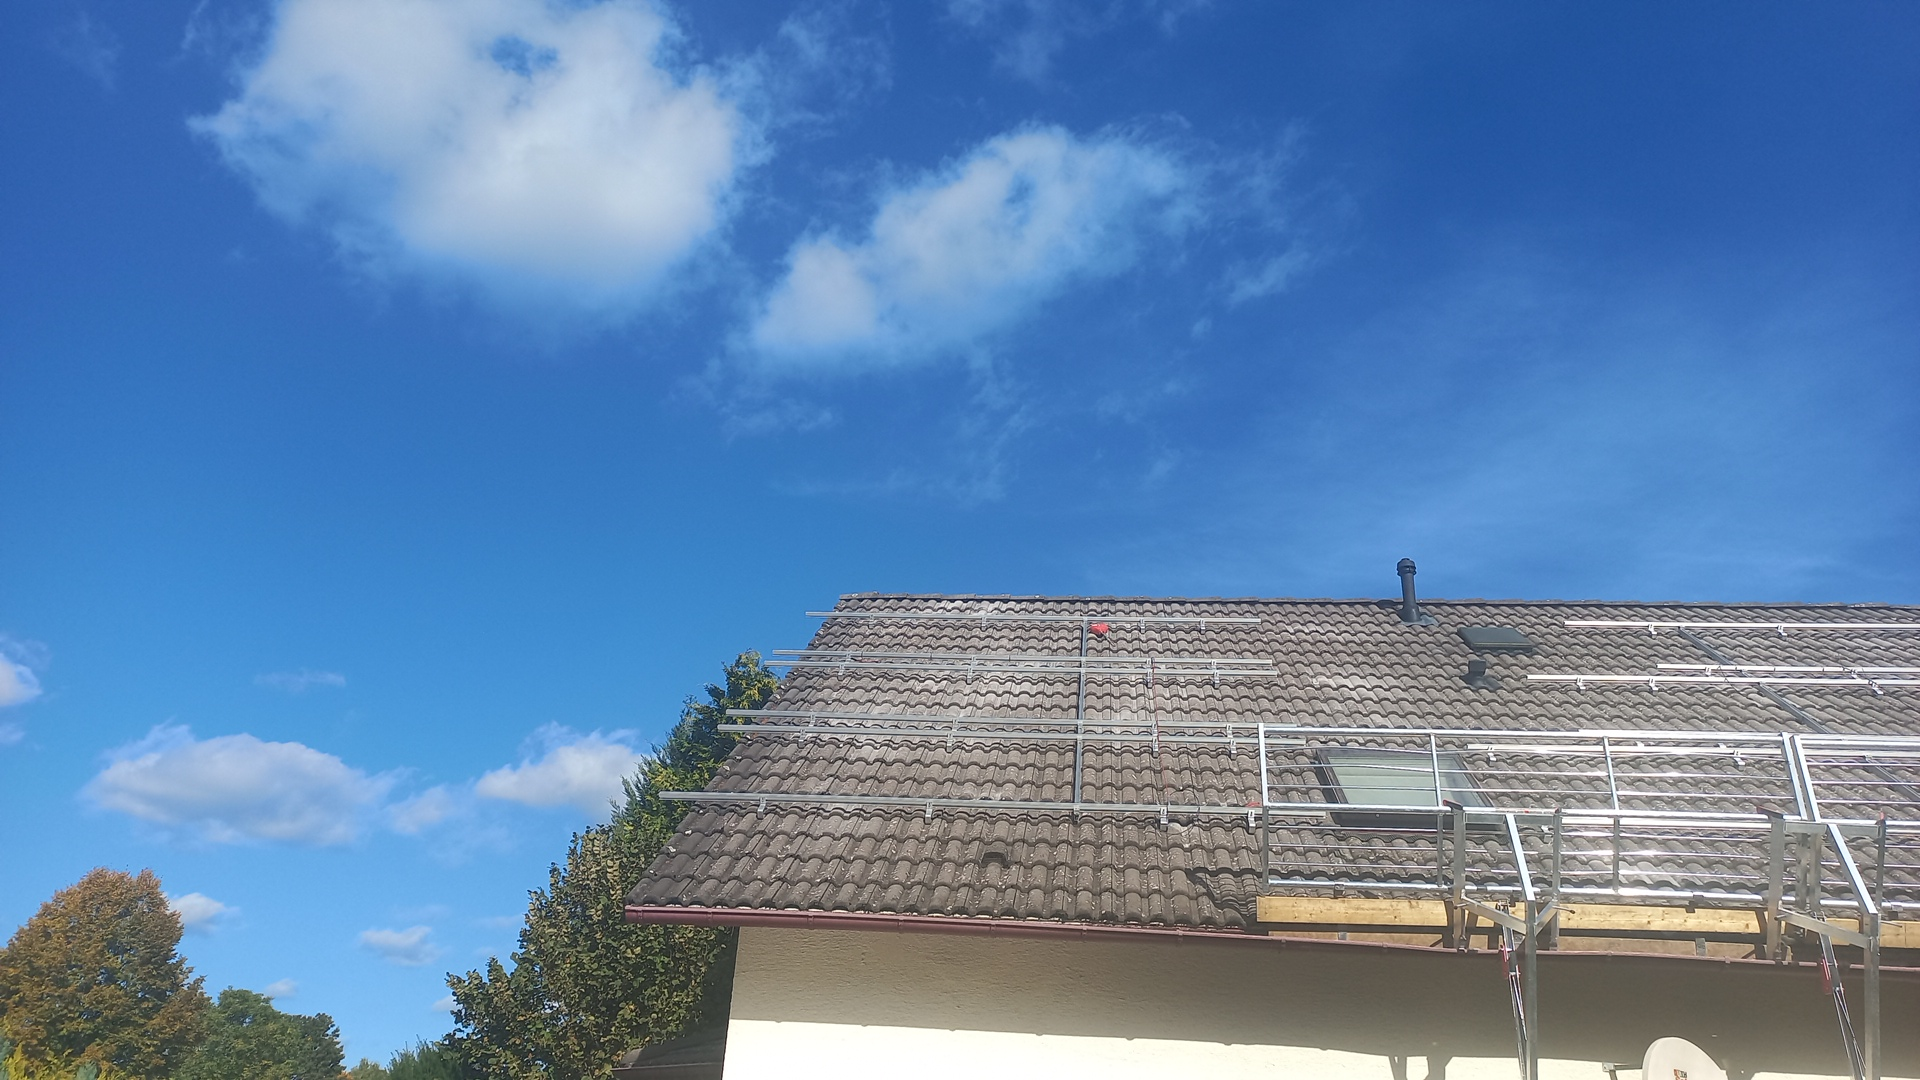hook: (1734, 750, 1745, 771), (1873, 682, 1884, 700), (757, 796, 766, 819), (1576, 676, 1586, 695), (1542, 824, 1552, 843), (1247, 810, 1255, 833), (1160, 807, 1168, 831), (924, 800, 932, 824), (1650, 678, 1659, 696), (1487, 746, 1495, 767), (1778, 625, 1787, 641), (1648, 624, 1658, 640), (1230, 740, 1237, 761), (798, 729, 804, 748), (945, 733, 952, 752), (837, 665, 844, 680), (1147, 670, 1153, 688), (1153, 738, 1158, 757), (1851, 669, 1861, 679), (967, 667, 972, 684), (868, 615, 874, 628), (808, 713, 815, 727), (1139, 618, 1145, 634), (1200, 618, 1205, 634), (1705, 666, 1713, 676), (1226, 724, 1232, 738), (952, 717, 957, 731), (1634, 740, 1644, 746), (1215, 671, 1218, 688), (1717, 742, 1727, 748), (982, 617, 986, 630), (1211, 659, 1216, 669), (847, 650, 851, 661), (1146, 658, 1150, 669), (1153, 724, 1156, 735), (972, 655, 976, 665)
